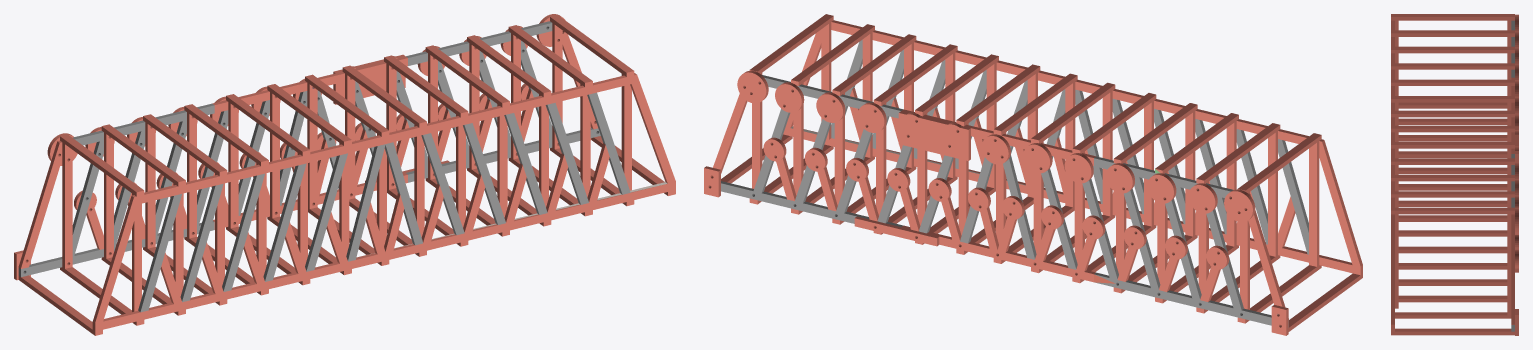
3 views of the same model, side by side, from view 1: azimuth 30°, elevation 25°; view 2: azimuth 150°, elevation 25°; view 3: azimuth 270°, elevation 25° (orthographic). The views are drawn at different scales.
Parts seen in each view (by area): view 1: Node1; view 2: Node1; view 3: Node1.
Part boxes in pixels (x1,y1,x2,y2): Node1: (14, 14, 675, 335); Node1: (704, 14, 1362, 335); Node1: (1391, 14, 1518, 335).
Bounding box in the file's own units: 716 × 156 × 168.
